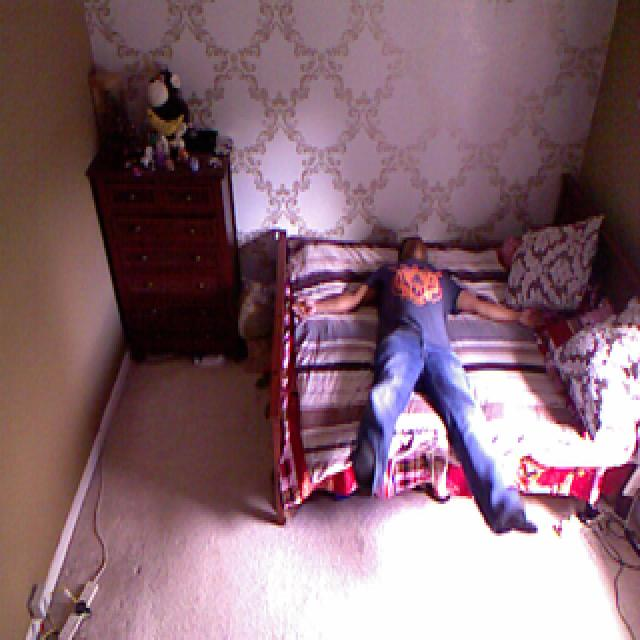lying: (290, 234, 561, 534)
